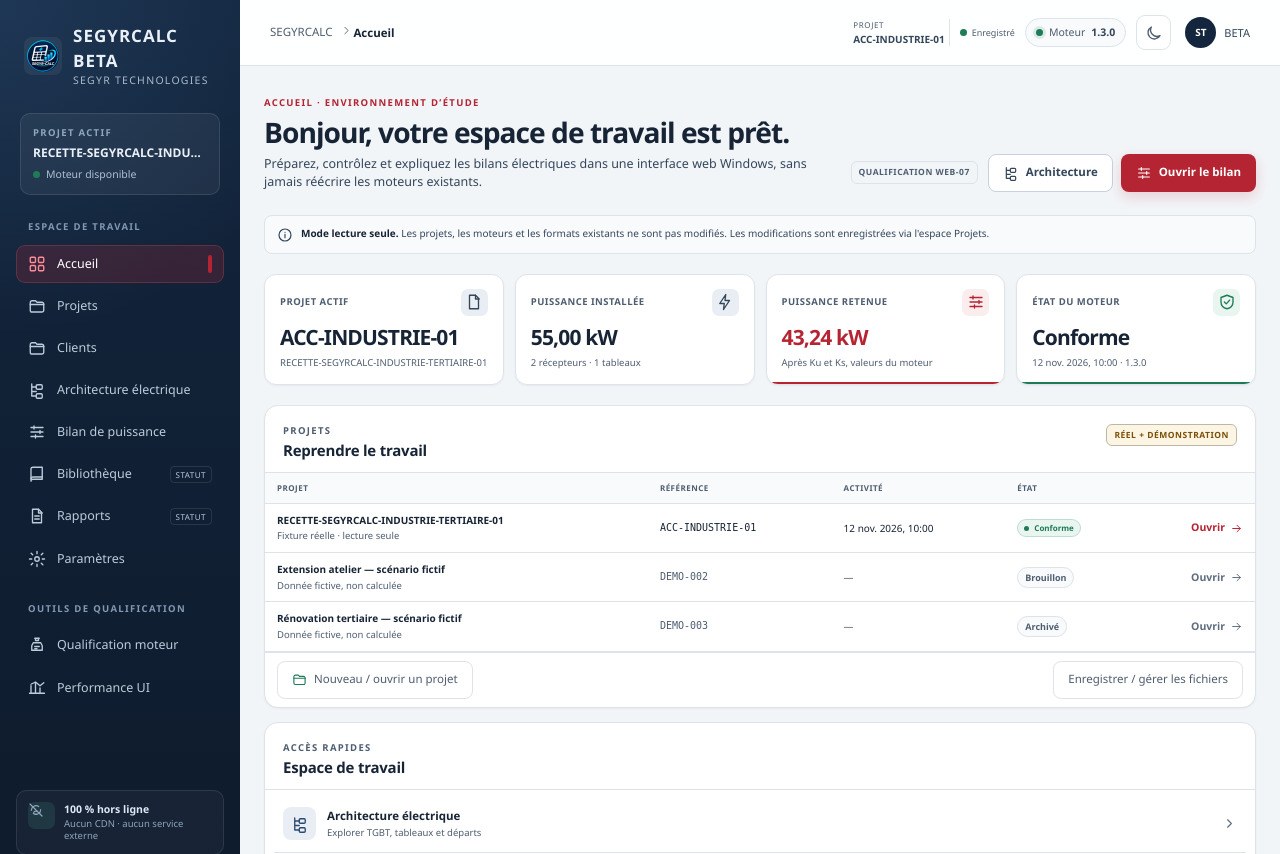
Test case: Application SEGYRCALC › ouvre les modules bibliothèque et rapports avec un statut explicite
Expected: the heading "Bonjour, votre espace de travail est prêt." is shown, [264,117,824,148]
Click the button with test id "nav-library" at (120, 474), box [16,455,224,493]
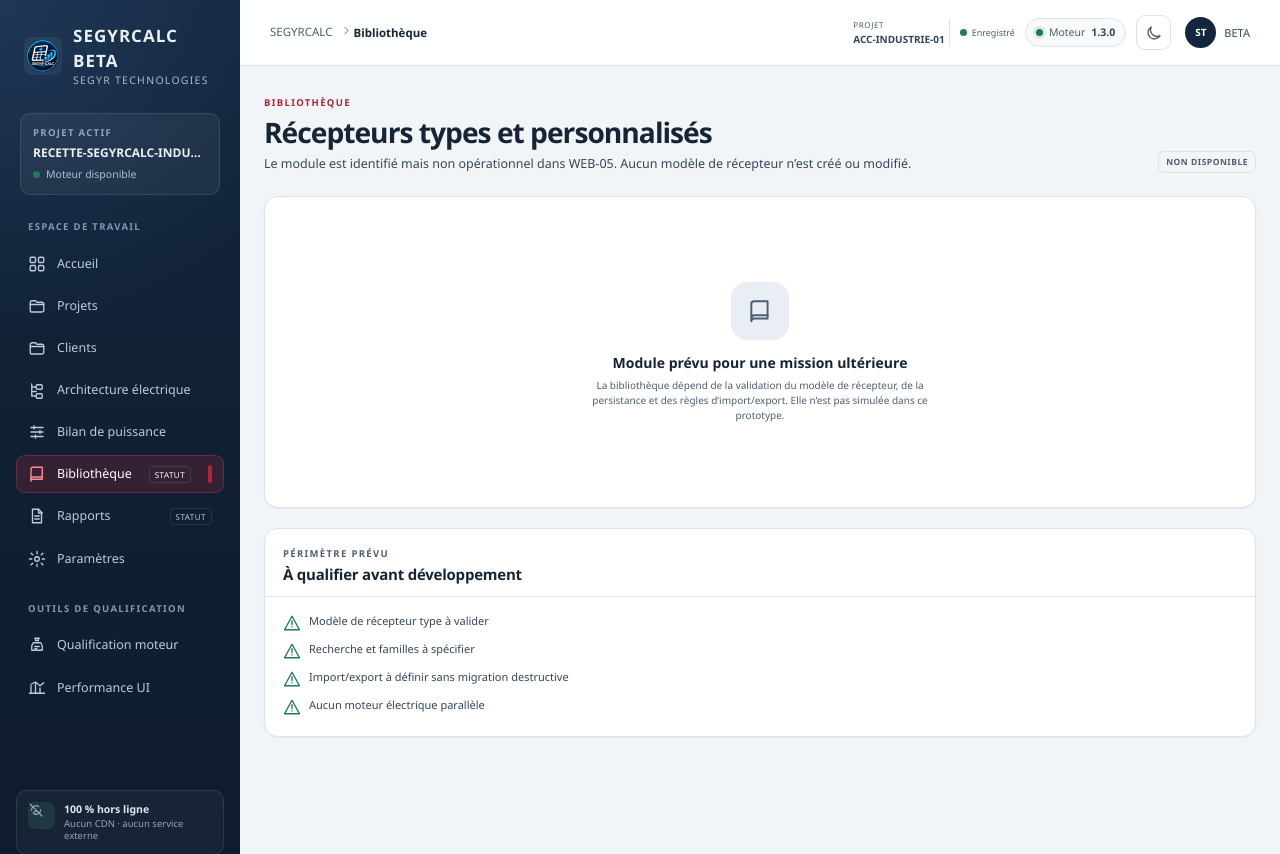
Now the heading "Module prévu pour une mission ultérieure" is shown, box [613,353,908,373]
Click the button with test id "nav-reports" at (120, 516), box [16,497,224,536]
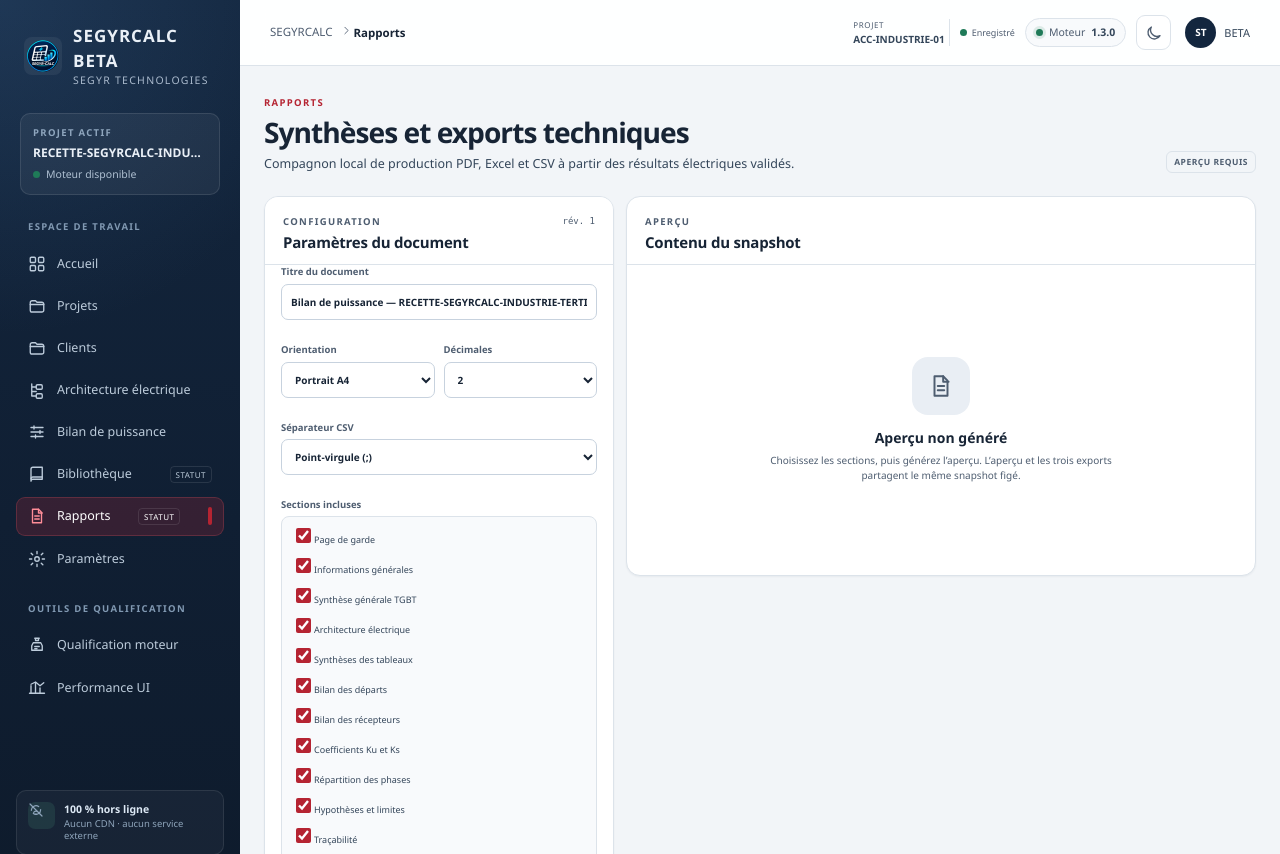
Now the heading "Synthèses et exports techniques" is shown, box [264,113,689,151]
Now the heading "Aperçu non généré" is shown, box [875,428,1007,448]
